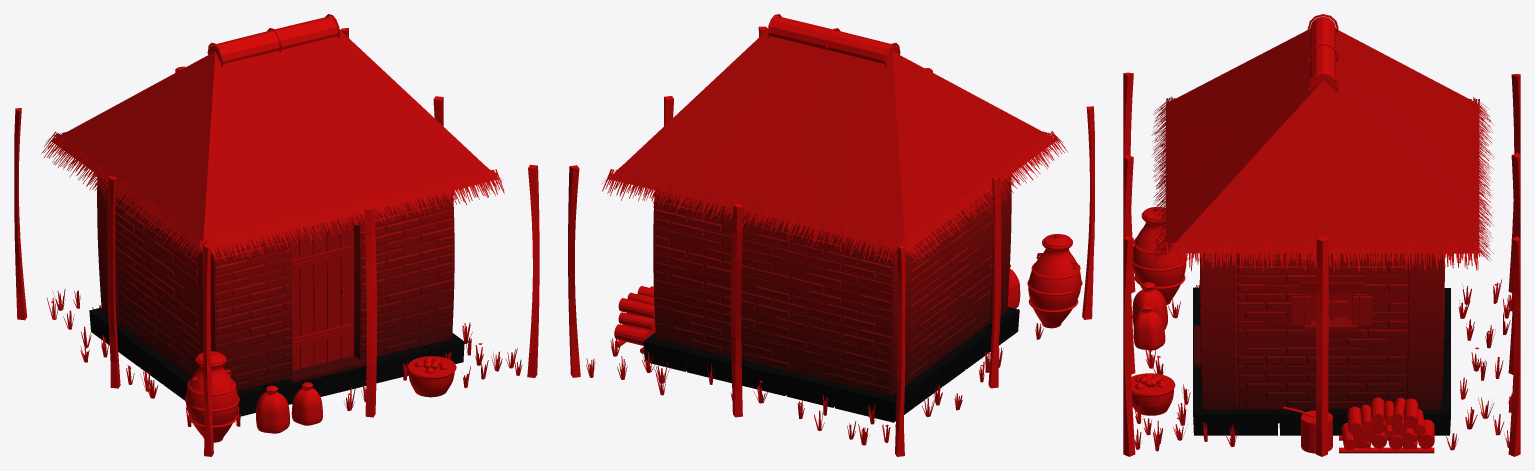
The model's file is common_housing_2.glb.
3 renders of one model, left to right at view 1: azimuth 30°, elevation 25°; view 2: azimuth 150°, elevation 25°; view 3: azimuth 270°, elevation 25°, orthographic. The views are drawn at different scales.
Visible parts, largest first — view 1: common_housing_2; view 2: common_housing_2; view 3: common_housing_2.
Boxes of the visible parts, left/top/right/bottom form: common_housing_2: left=14, top=14, right=539, bottom=456; common_housing_2: left=568, top=14, right=1094, bottom=456; common_housing_2: left=1123, top=14, right=1520, bottom=456.
Bounding box in the file's own units: 2 × 1.83 × 2.
